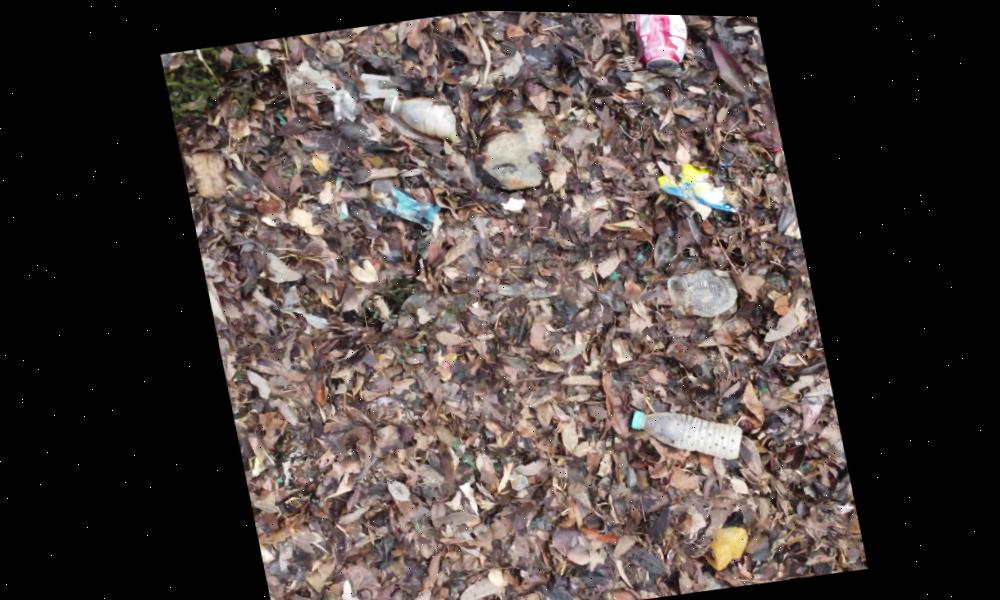can: (627, 11, 695, 72)
plastic bag: (660, 259, 737, 320)
plastic bottle: (623, 387, 745, 471)
